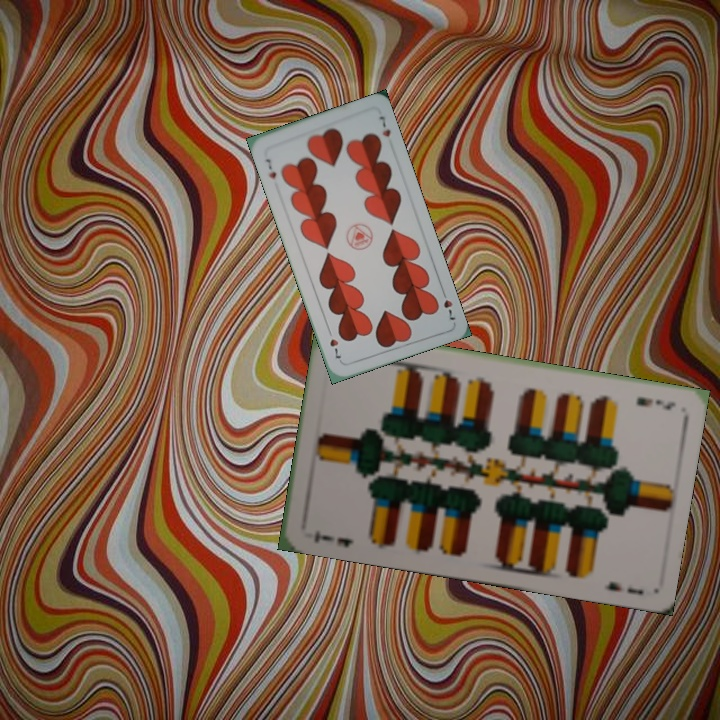E7: (310, 526, 357, 550), (632, 393, 678, 413)
H7: (437, 285, 458, 323), (262, 155, 279, 181)
